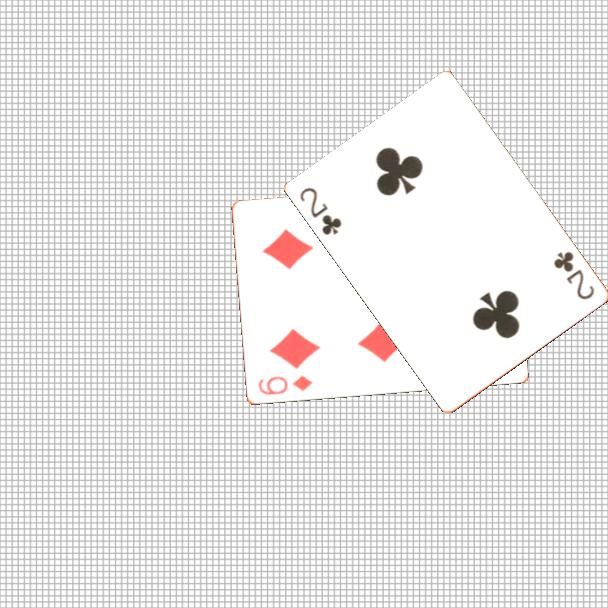c02: (550, 248, 598, 303), (297, 183, 345, 238)
d06: (255, 372, 315, 398)
